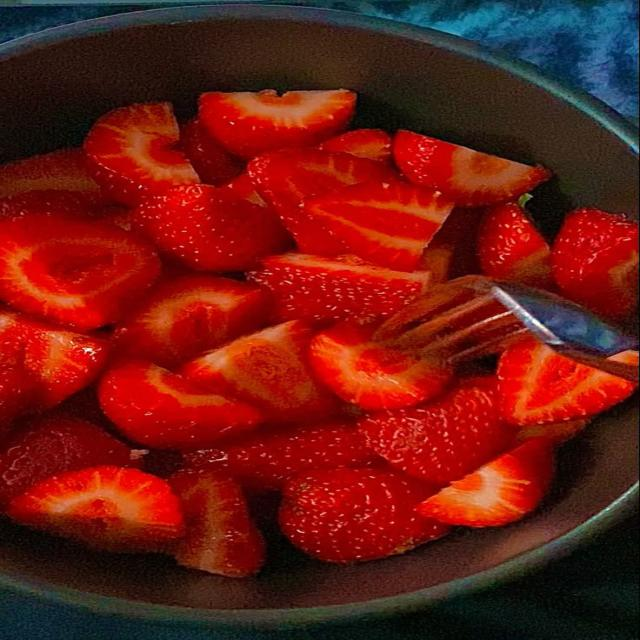strawberry sliced: (0, 215, 159, 331), (360, 379, 513, 485), (247, 149, 398, 255), (280, 468, 448, 563), (181, 321, 338, 422), (7, 466, 183, 551), (99, 360, 261, 449), (114, 274, 268, 367), (184, 421, 379, 492), (302, 181, 453, 271), (134, 185, 290, 272), (0, 417, 139, 508), (310, 322, 453, 410), (249, 253, 430, 320), (498, 339, 637, 425), (418, 439, 553, 527), (394, 130, 550, 206), (84, 103, 199, 205), (199, 90, 356, 159), (0, 311, 111, 408), (169, 473, 265, 577), (552, 209, 638, 318), (478, 203, 553, 288), (0, 149, 100, 197), (420, 207, 483, 278), (0, 313, 37, 432), (180, 118, 244, 186), (0, 190, 95, 219), (320, 129, 392, 162), (516, 419, 590, 444), (419, 241, 454, 285), (225, 173, 269, 207), (94, 205, 133, 230)
